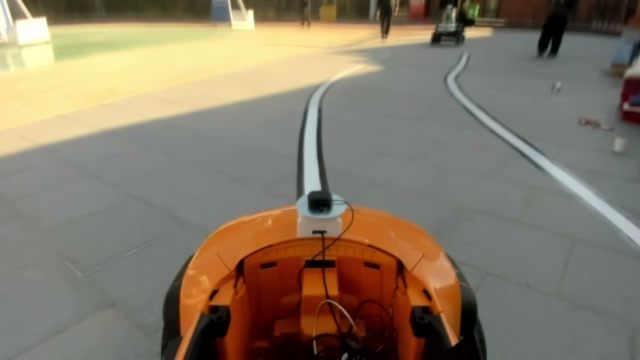Lane: (444, 51, 638, 259), (296, 65, 367, 197)
